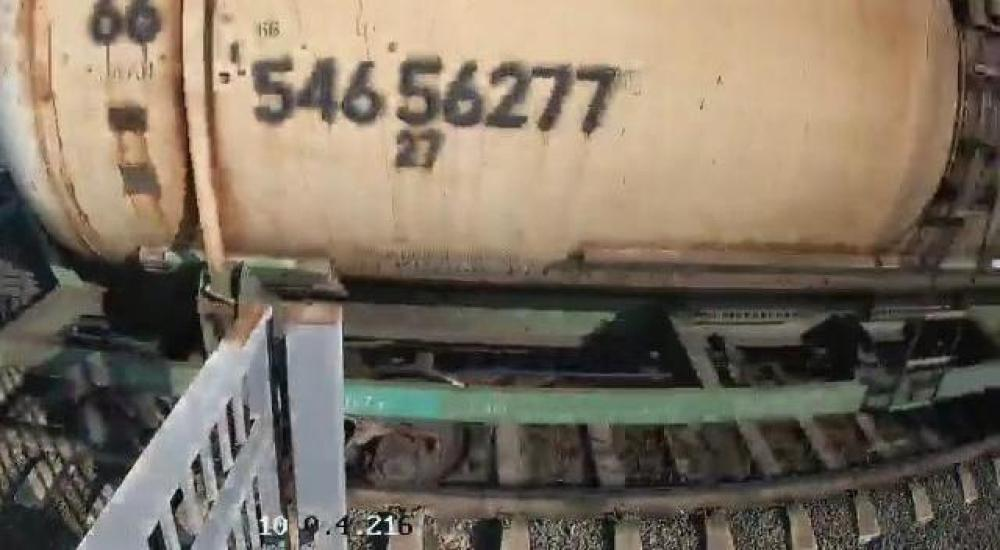Wagon-number: (248, 53, 621, 135)
